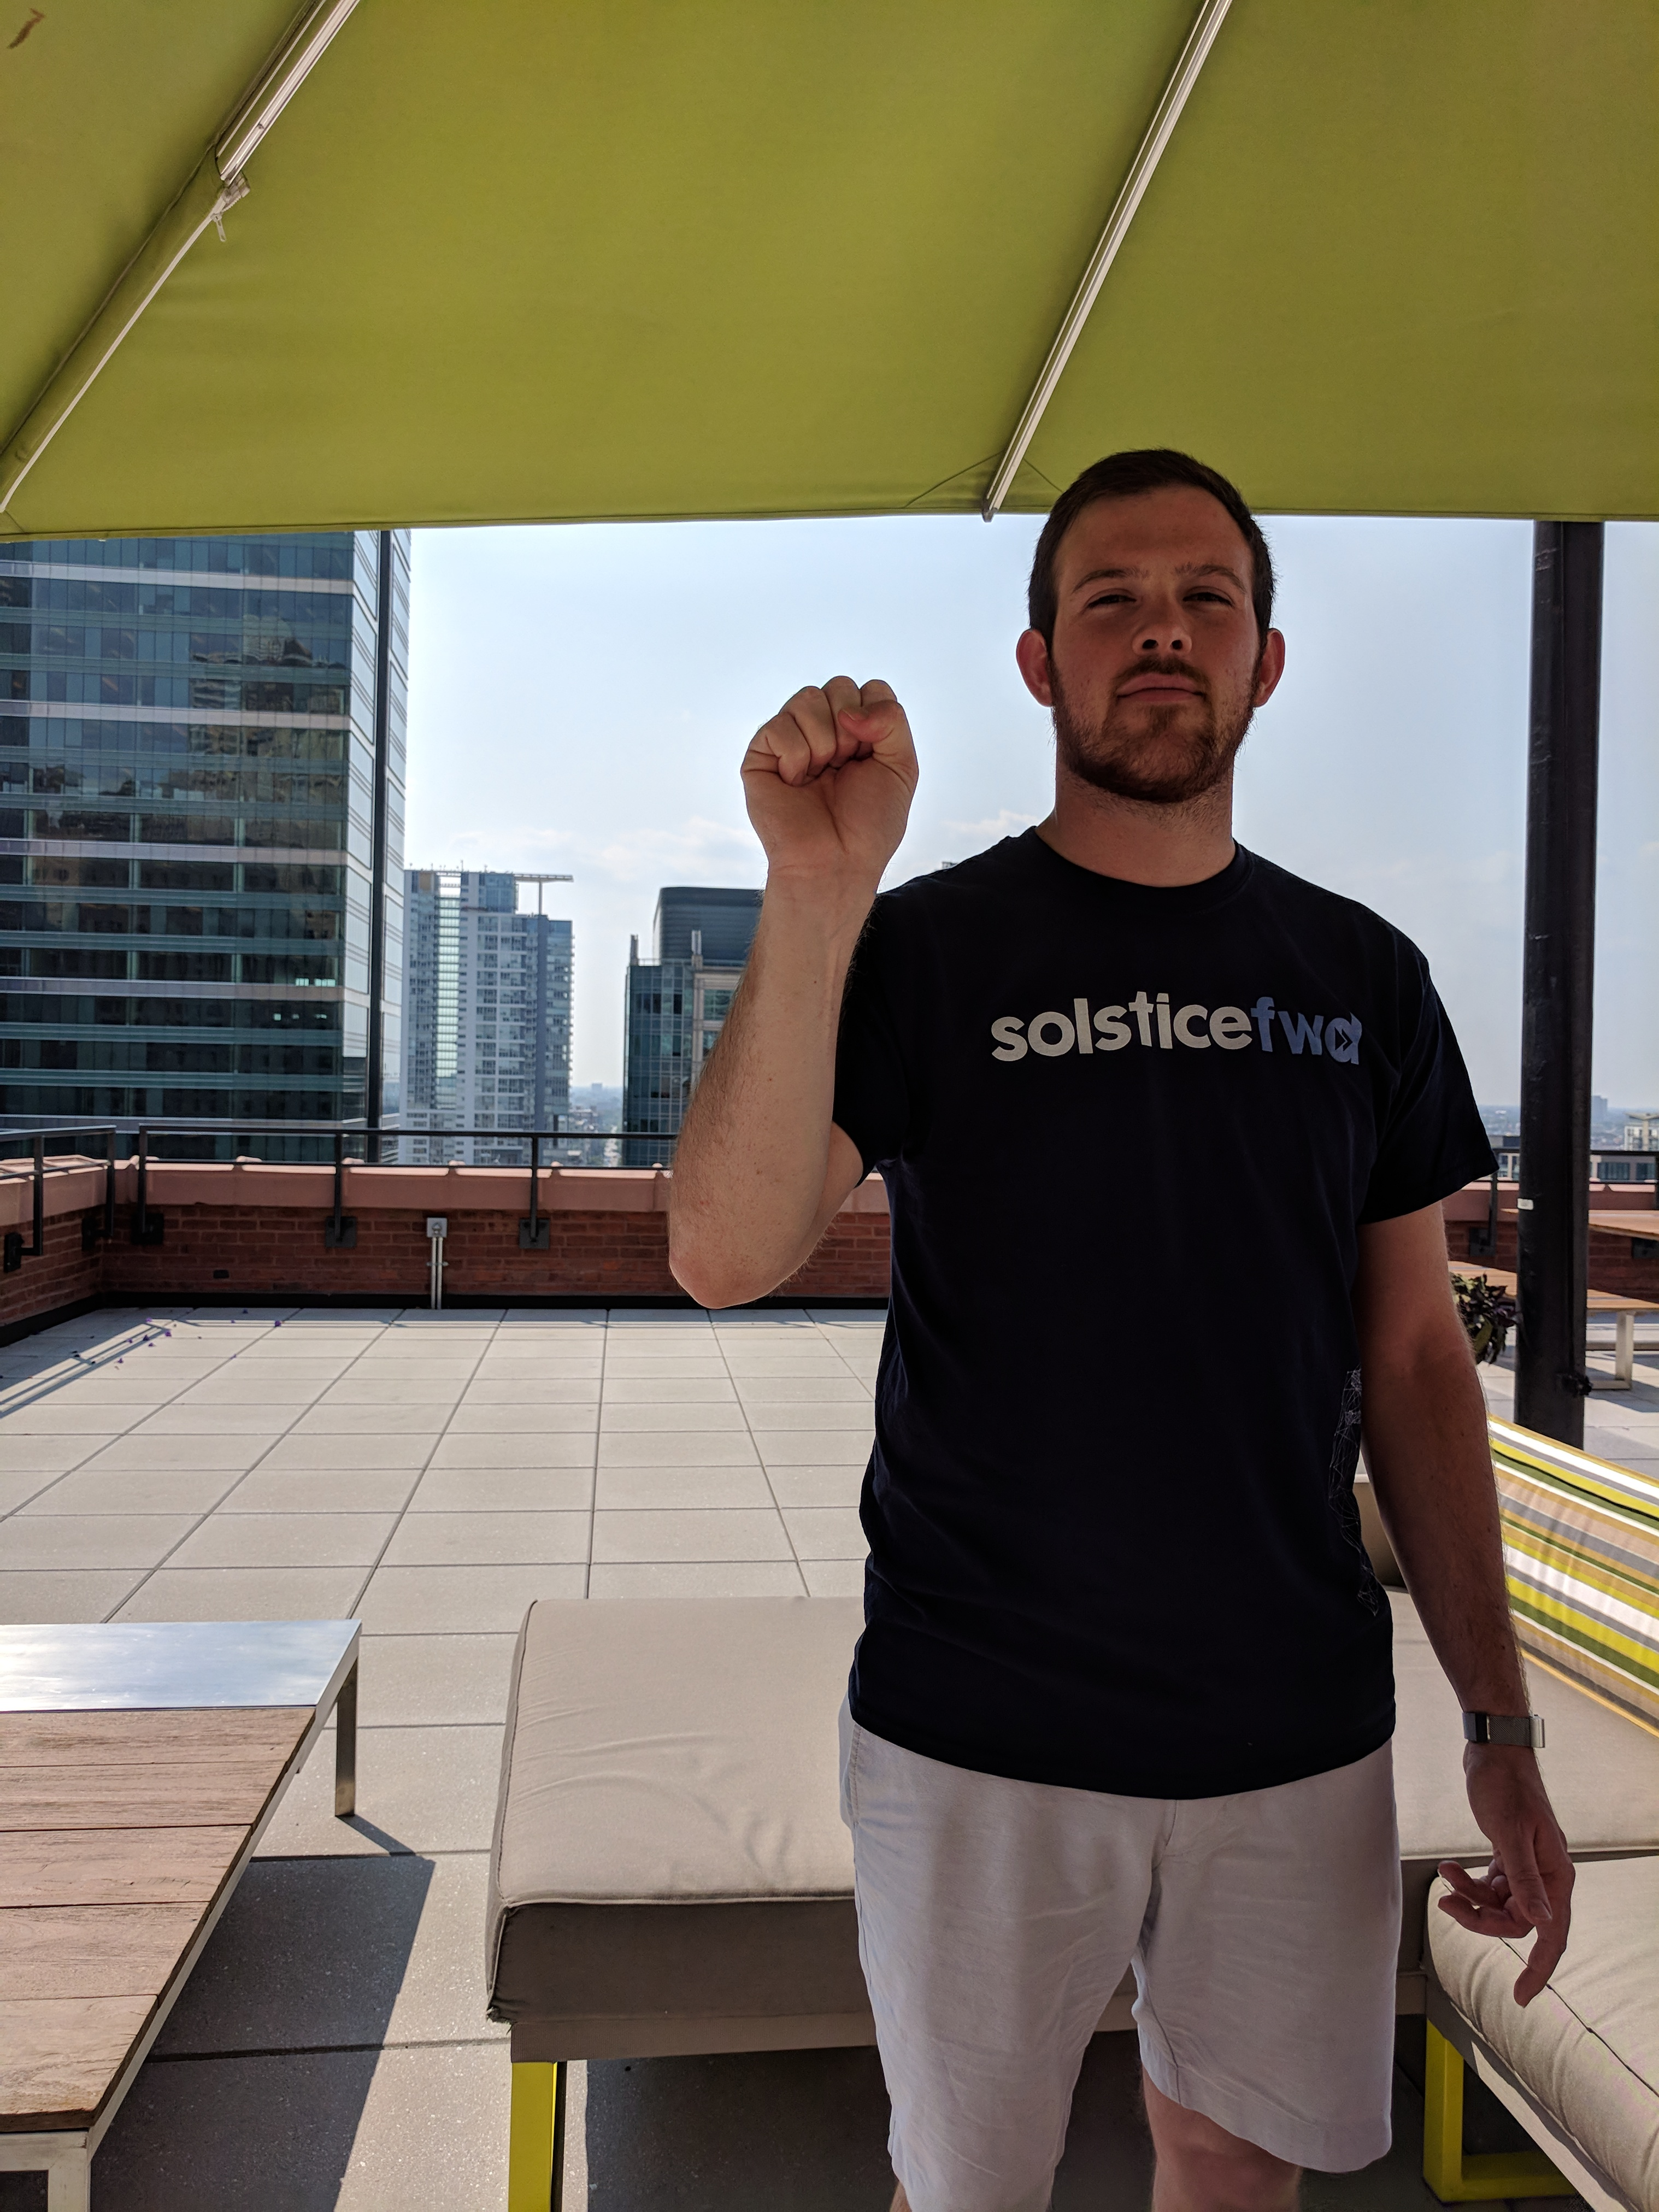s: (735, 667, 931, 899)
